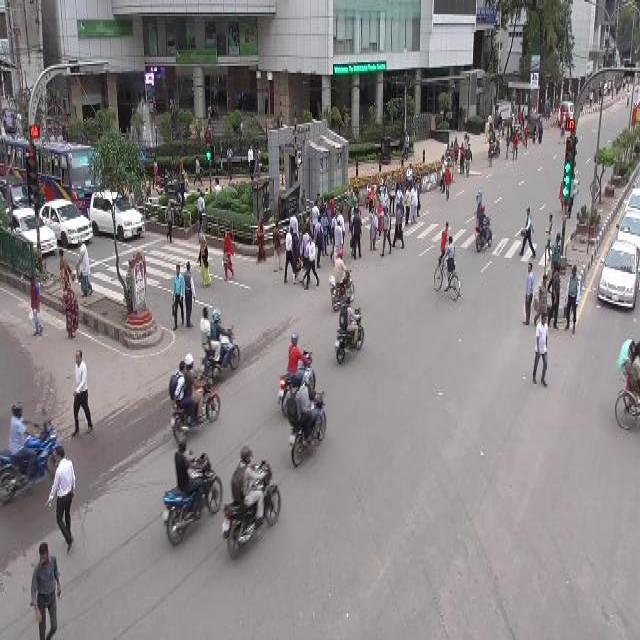bike: (163, 428, 225, 552), (222, 443, 282, 565), (1, 414, 62, 503), (288, 366, 328, 475), (333, 293, 365, 371), (432, 257, 463, 303), (473, 204, 493, 254)
vehicle: (596, 235, 640, 318), (89, 182, 147, 244), (37, 196, 95, 250)
